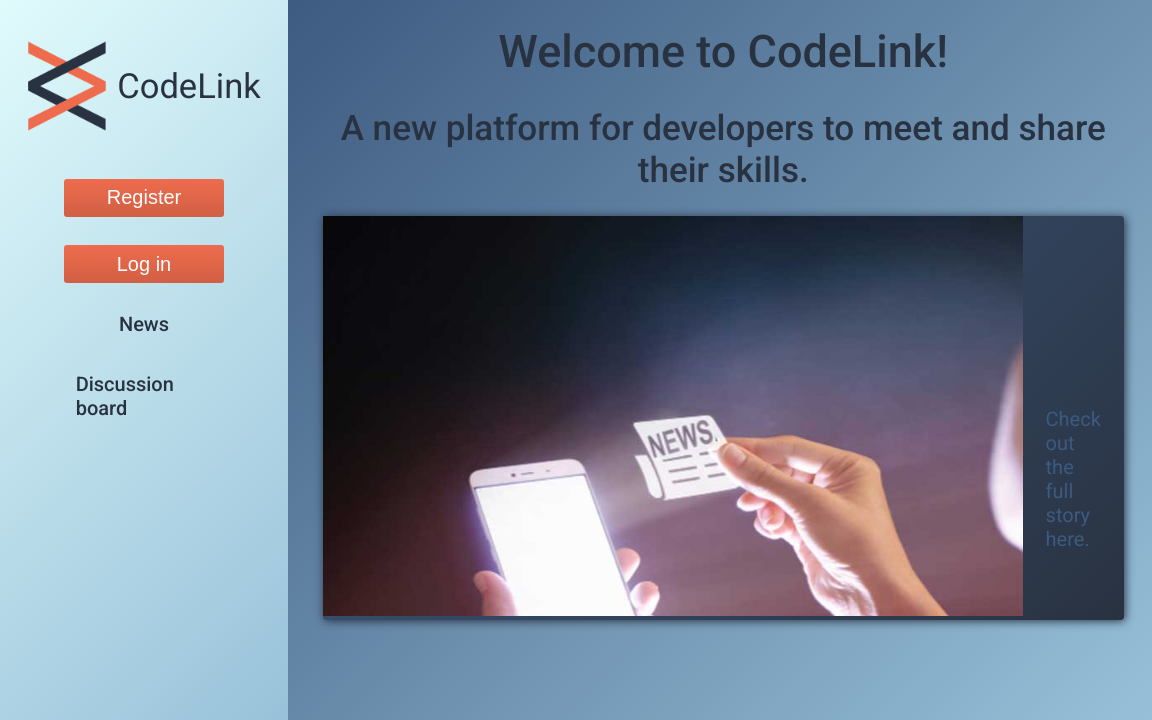
Homepage › should open news feed when news is clicked on navbar
Click the link "News". click: (144, 324)
box: [119,312,169,336]
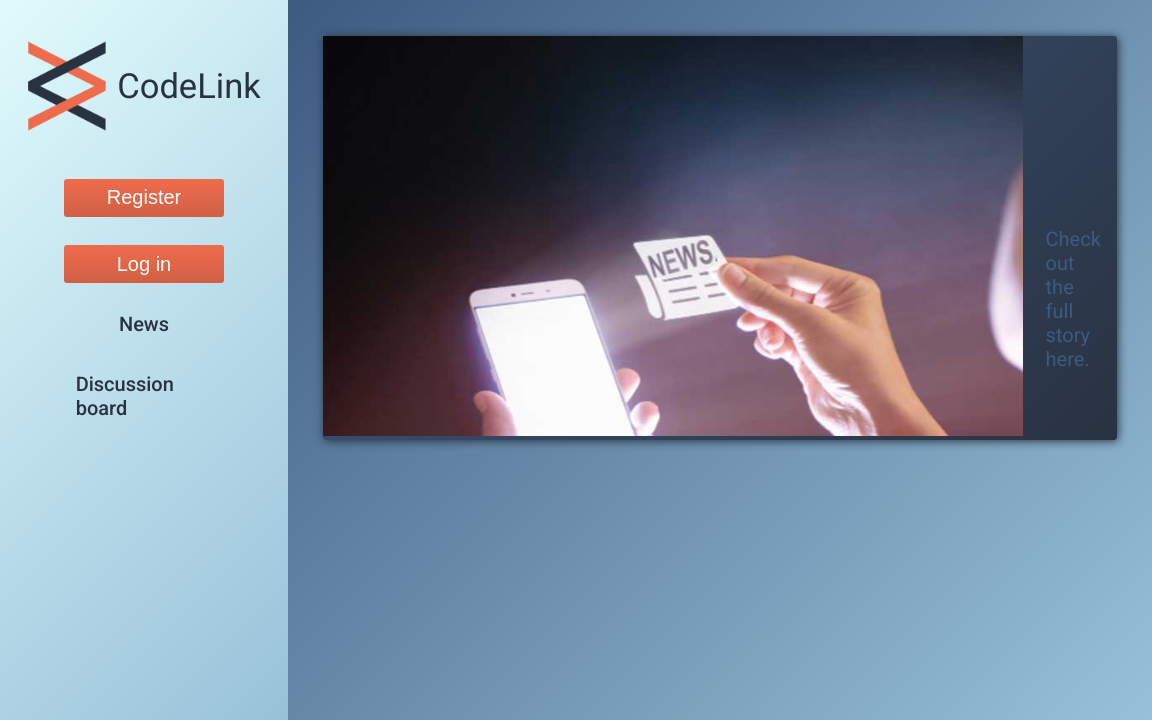
Now the heading "Welcome to CodeLink!" is gone
